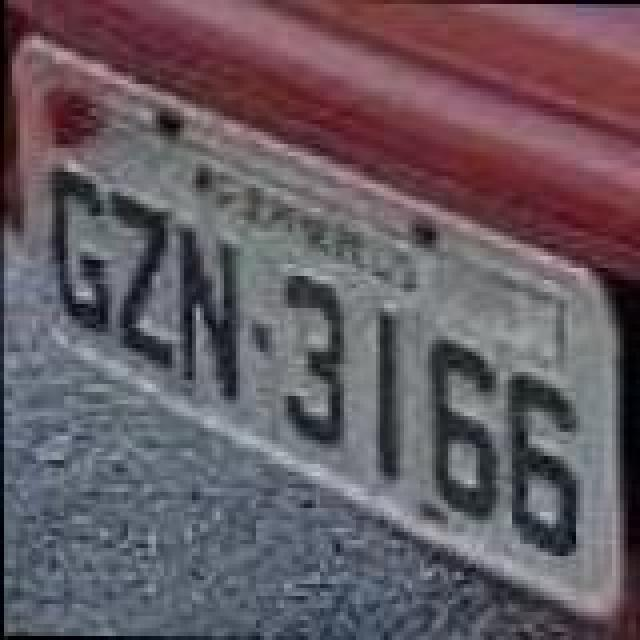1: (368, 306, 408, 490)
3: (276, 268, 352, 452)
6: (498, 374, 590, 562), (424, 332, 504, 520)
G: (38, 156, 114, 332)
N: (172, 218, 248, 402)
Z: (96, 192, 180, 376)
